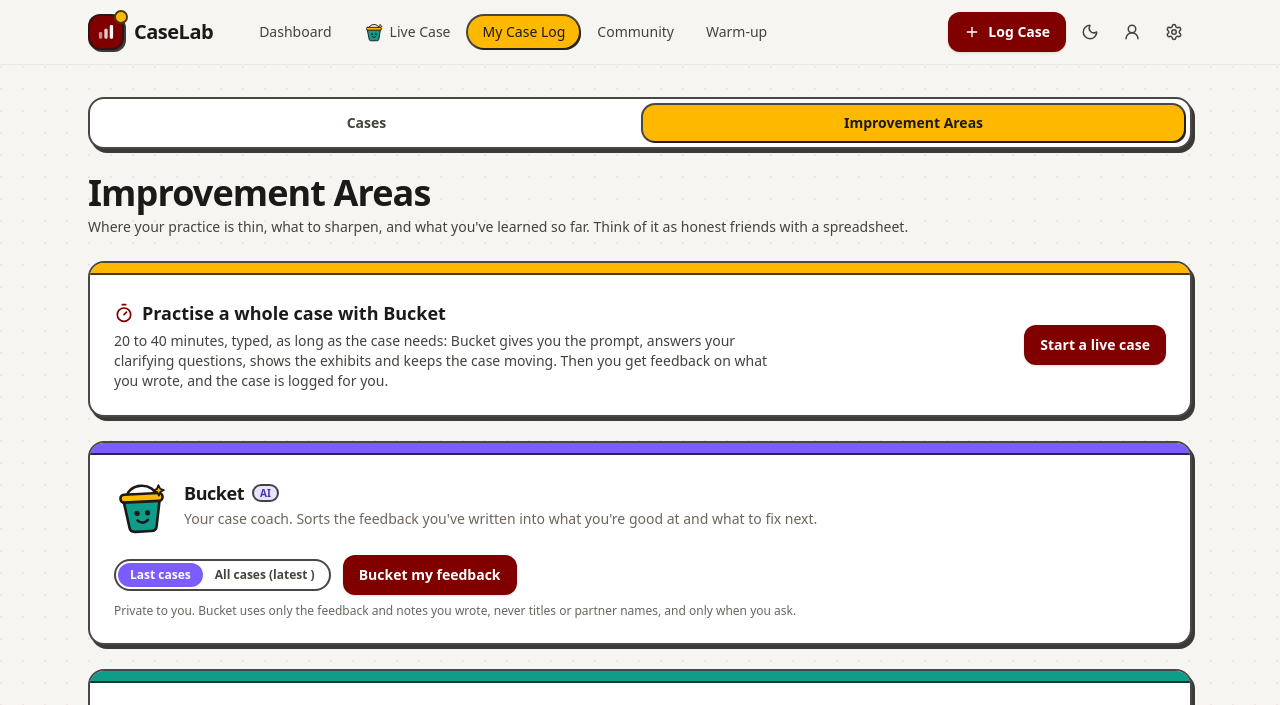
Bucket, the coach › says nothing about cases to try when looking them up fails
Check: the heading "Improvement Areas" is shown, box [88,168,430,217]
Click the button "Bucket my feedback" at (430, 575), box [343,555,517,595]
(page scrolled)
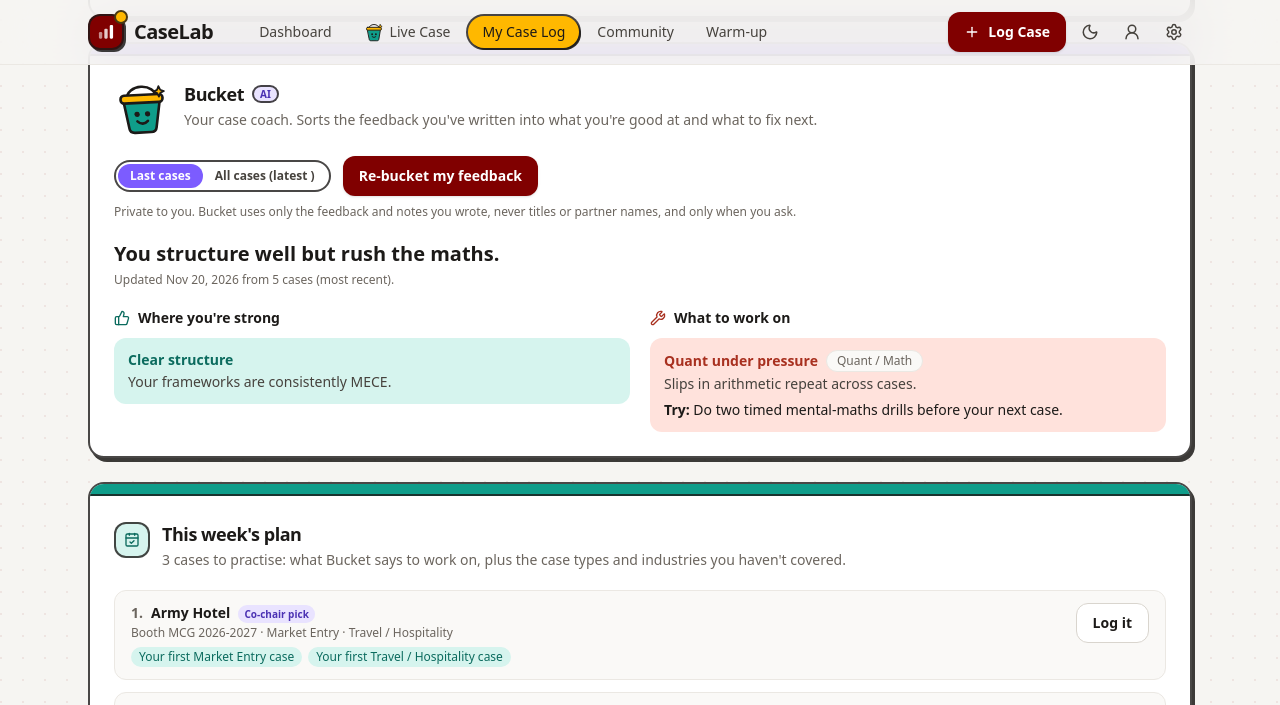
Check: the text "Quant under pressure" is shown, box [664,350,818,370]
